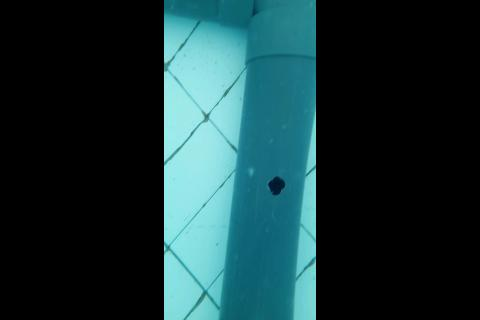kebocoran: (266, 173, 286, 198)
